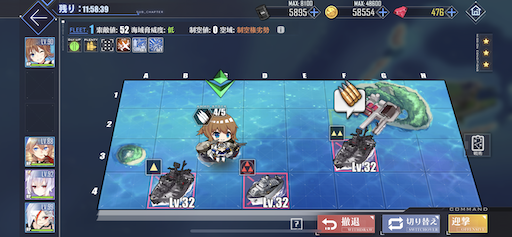lv1: (146, 159, 194, 207)
lv2: (329, 127, 377, 172)
lv3: (239, 159, 288, 207)
